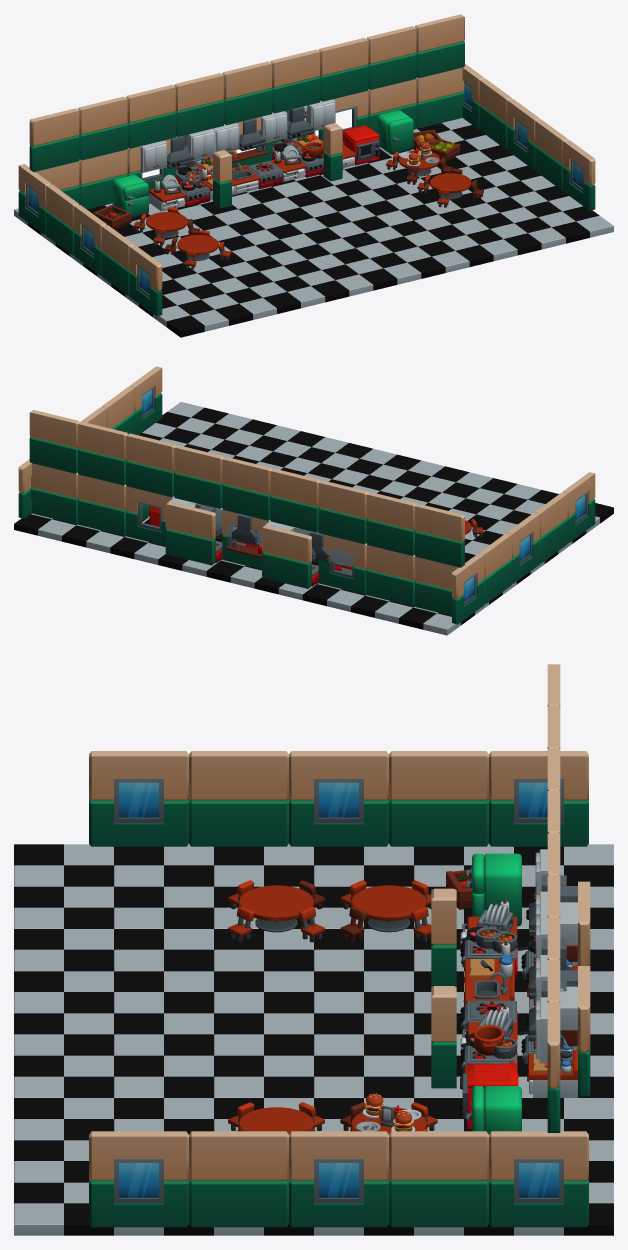
Rendered from level_7.glb.
The picture shows the model from 3 angles, top to bottom: view 1: azimuth 30°, elevation 25°; view 2: azimuth 150°, elevation 25°; view 3: azimuth 270°, elevation 25°; orthographic projection. The views are drawn at different scales.
Visible parts, largest first — view 1: Ortam_3, Ortam_1, Ortam_2; view 2: Ortam_3, Ortam_1; view 3: Ortam_1, Ortam_3, Ortam_2.
Boxes of the visible parts, x1,y1,x2,y2 form: Ortam_3: (18,14,595,316); Ortam_1: (14,118,613,337); Ortam_2: (93,110,483,269); Ortam_3: (18,366,595,624); Ortam_1: (14,402,613,635); Ortam_1: (14,844,613,1235); Ortam_3: (89,664,590,1227); Ortam_2: (228,853,521,1134).
Size of the model in its own units: 36.5 by 8.49 by 24.
Materials: 1 (1 with a texture image).
